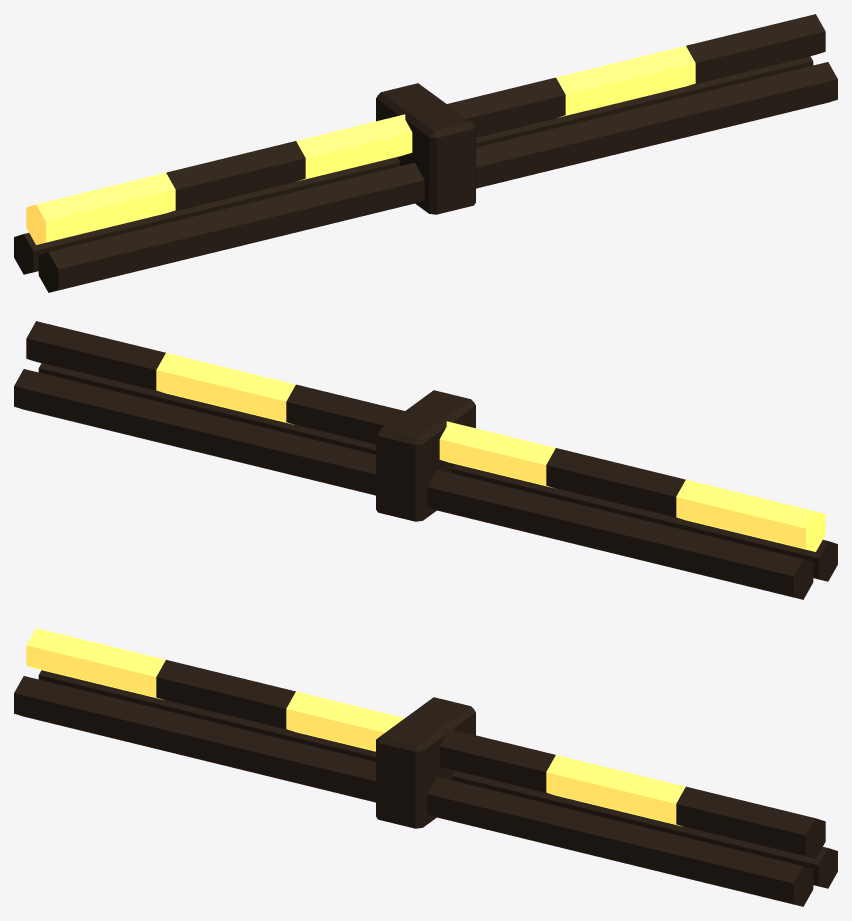
File: cable_straight_hard.glb
3 views of the same model, one above another, from view 1: azimuth 30°, elevation 25°; view 2: azimuth 150°, elevation 25°; view 3: azimuth 330°, elevation 25° (orthographic).
Parts seen in each view (by area): view 1: Mesh; view 2: Mesh; view 3: Mesh.
Boxes of the visible parts, box(x1,y1,x2,y2) form: Mesh: box(14, 14, 837, 292); Mesh: box(14, 321, 837, 599); Mesh: box(14, 628, 837, 906).
Size of the model in its own units: 2 by 0.2 by 0.26.
